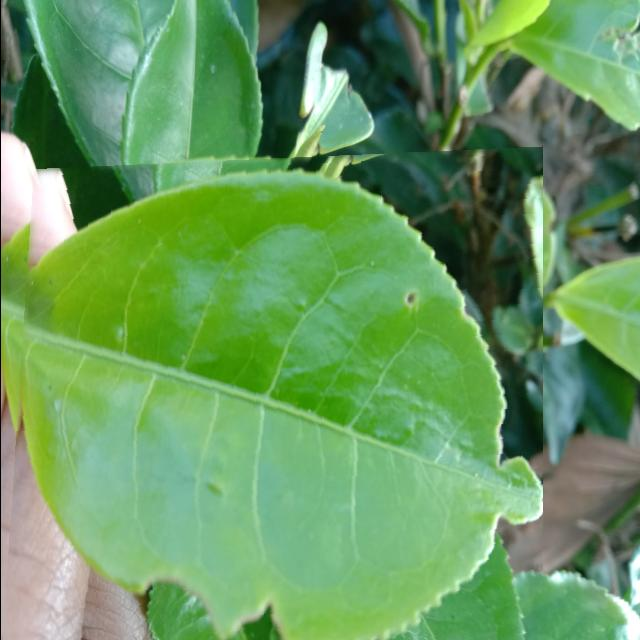Category B 2-4 days: (0, 145, 542, 640)
